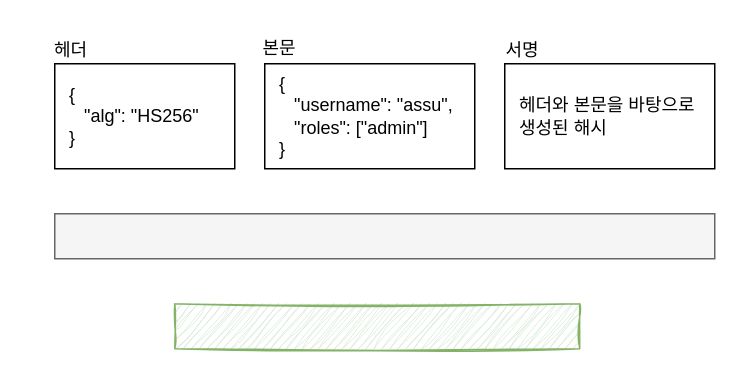
Some shapes in this 741 by 375 pixel diagram are drawn without their labels. Here are the shapes that lost their labels. From the top down, the centre of each, then its label:
At point (384, 235): "eyfjkslfdklsafmUFDSa . eyfjkslfdklsafmUFDSa . wfdseyfjkslfdklsafmUFDSa".
At point (376, 325): "마침표로 분리된 3 개의 Base64 로 인코딩으로 구성됨".
